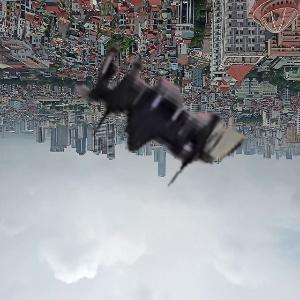drone: (47, 3, 262, 218)
